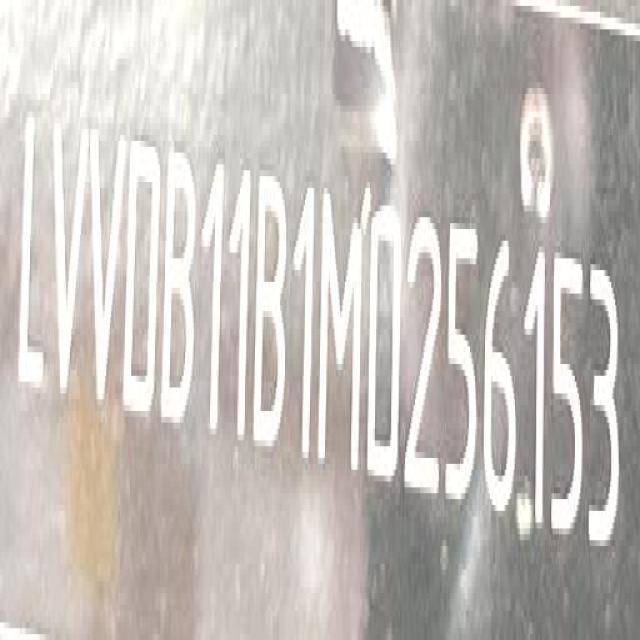1: (203, 162, 230, 448), (524, 240, 546, 537), (296, 181, 316, 467), (232, 170, 252, 450)
2: (406, 207, 444, 503)
3: (590, 254, 624, 553)
5: (447, 219, 482, 515), (553, 250, 585, 546)
6: (484, 230, 517, 526)
B: (256, 169, 290, 457), (163, 149, 197, 434)
D: (125, 144, 162, 428), (369, 196, 401, 486)
L: (17, 106, 48, 410)
M: (318, 186, 365, 479)
V: (88, 126, 125, 424), (49, 116, 84, 414)
